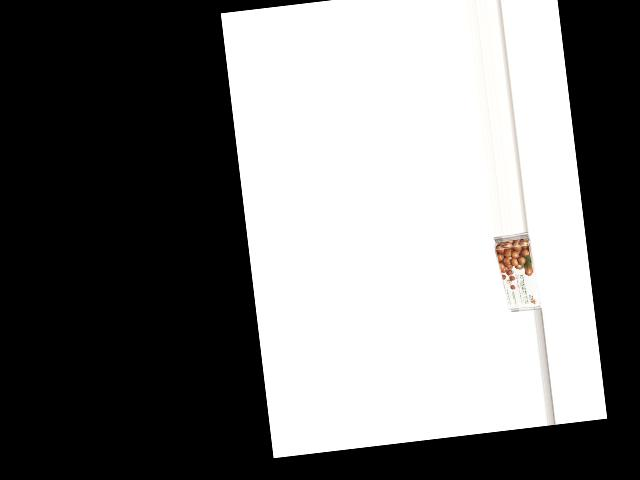chocolate: (493, 233, 539, 314)
